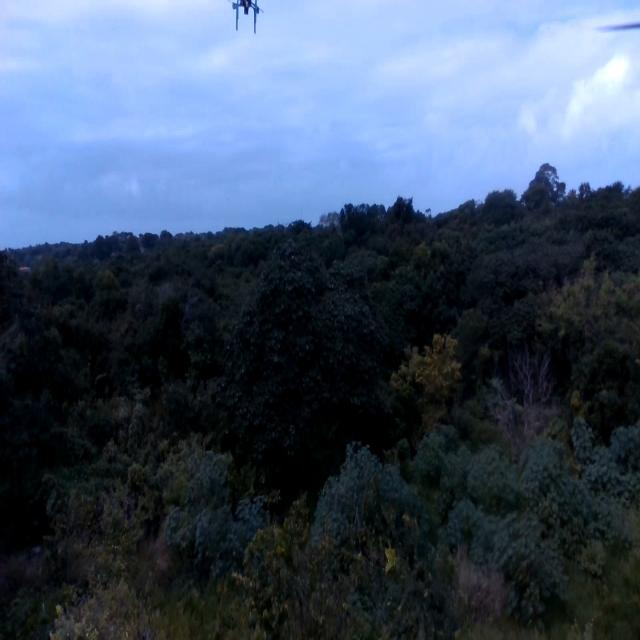-uav-: (230, 0, 262, 38)
